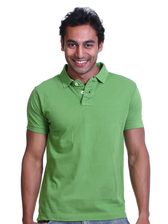clothoes: (24, 61, 145, 221)
